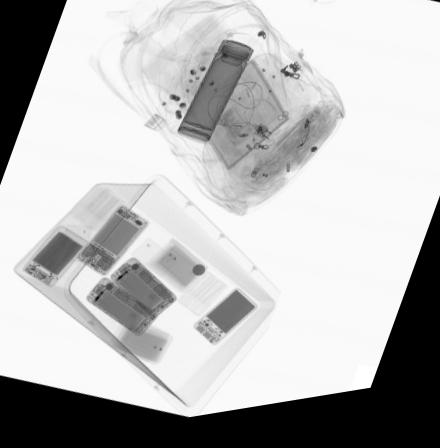Powerbank: (24, 226, 89, 289), (193, 294, 257, 352)
